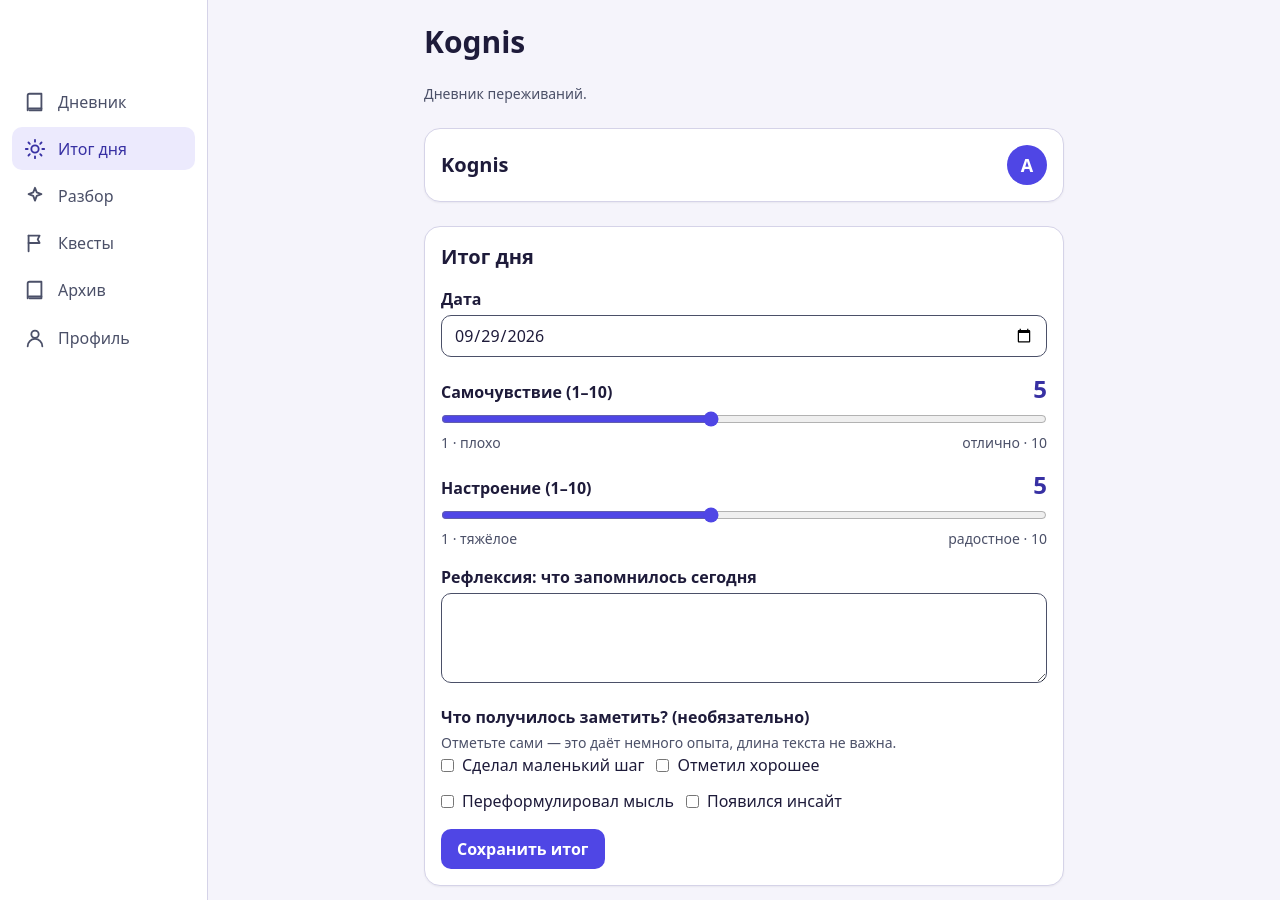
Test: итог дня: история, пустая история и ошибка сохранения
Set the slider labelled "Самочувствие (1–10) 5" to "7" at x=842, y=419, box [441,411,1047,427]
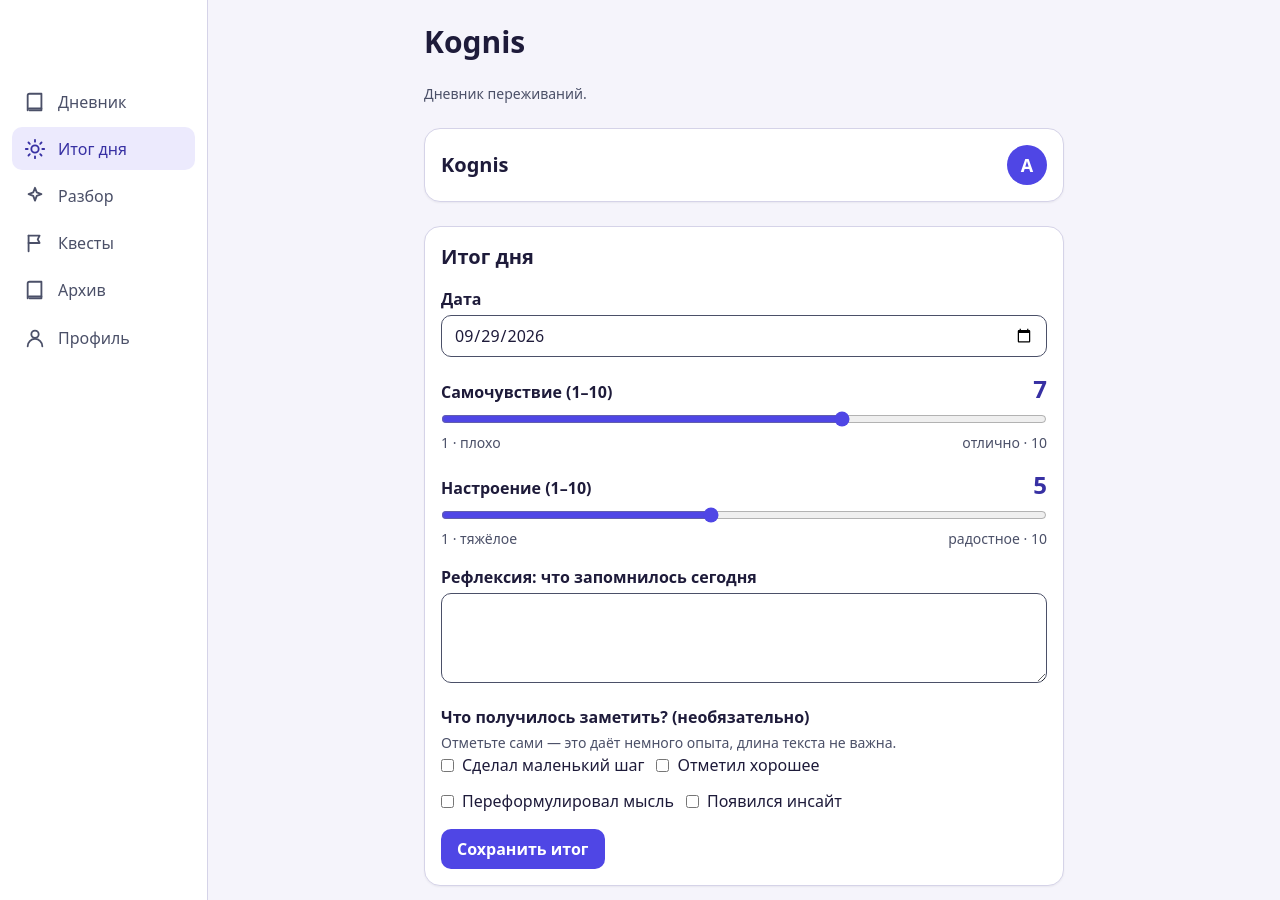
Click the button with test id "save-review" at x=523, y=849, box [441,829,604,869]
(page scrolled)
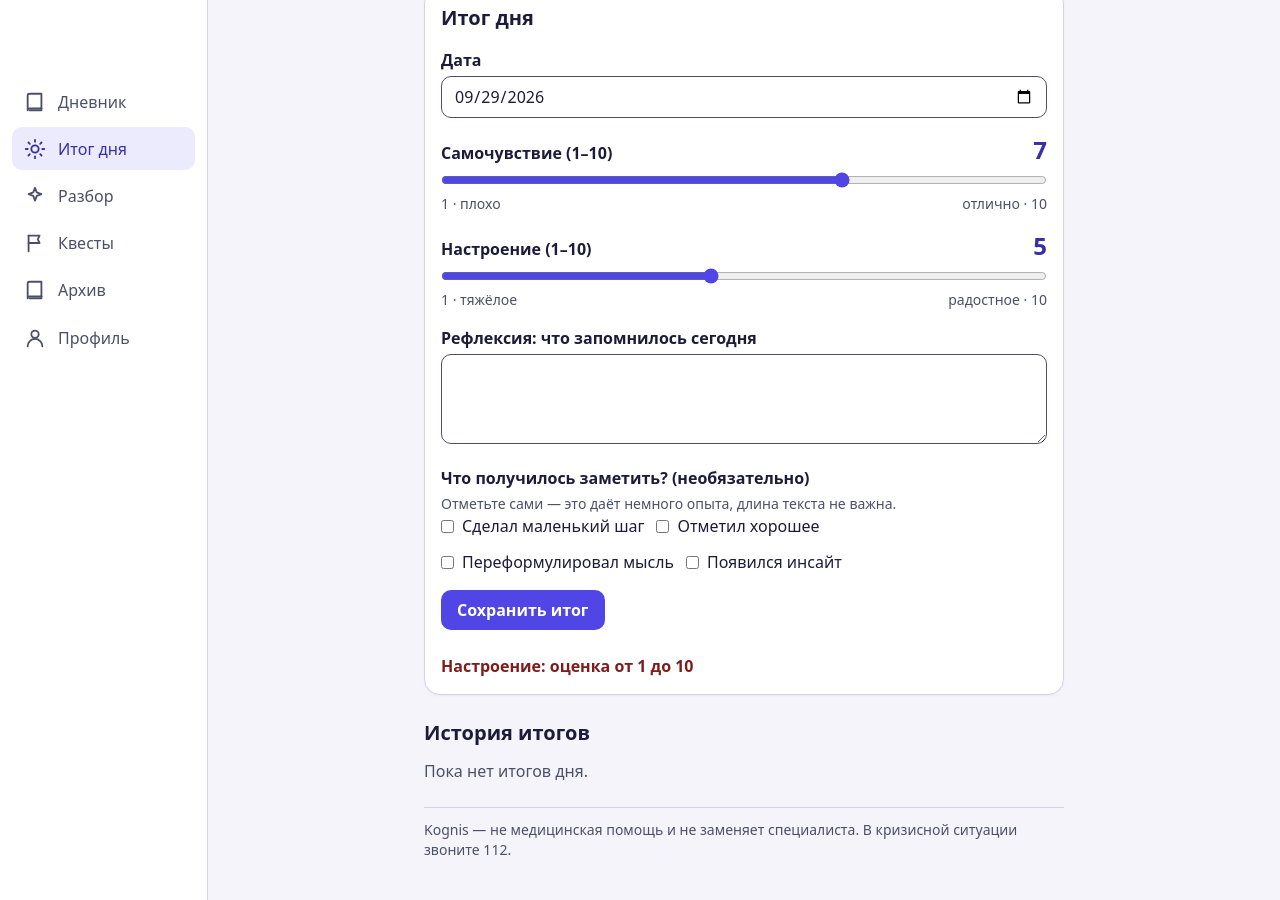
expect the text "Настроение: оценка от 1 до 10" is shown: met, box [441,655,694,677]
